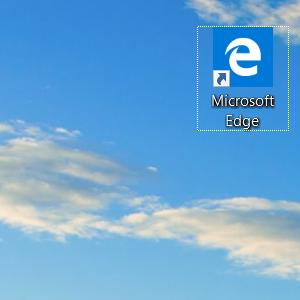edge: (212, 27, 273, 88)
